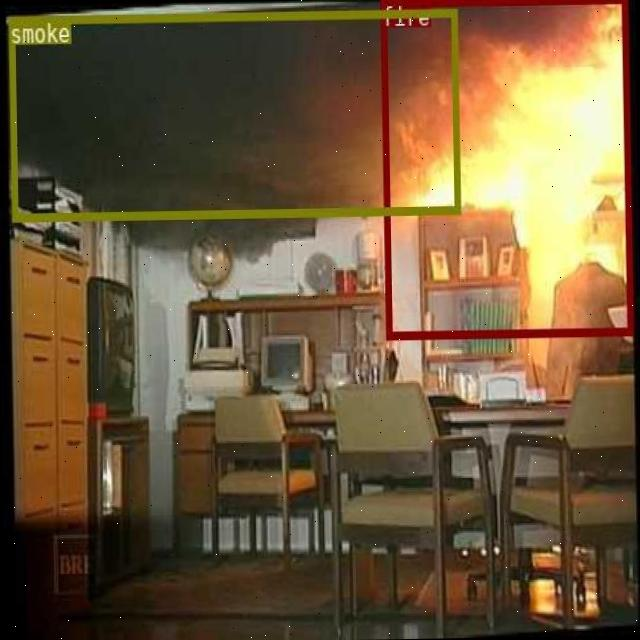fire: (379, 0, 631, 336)
smoke: (8, 8, 459, 220)
